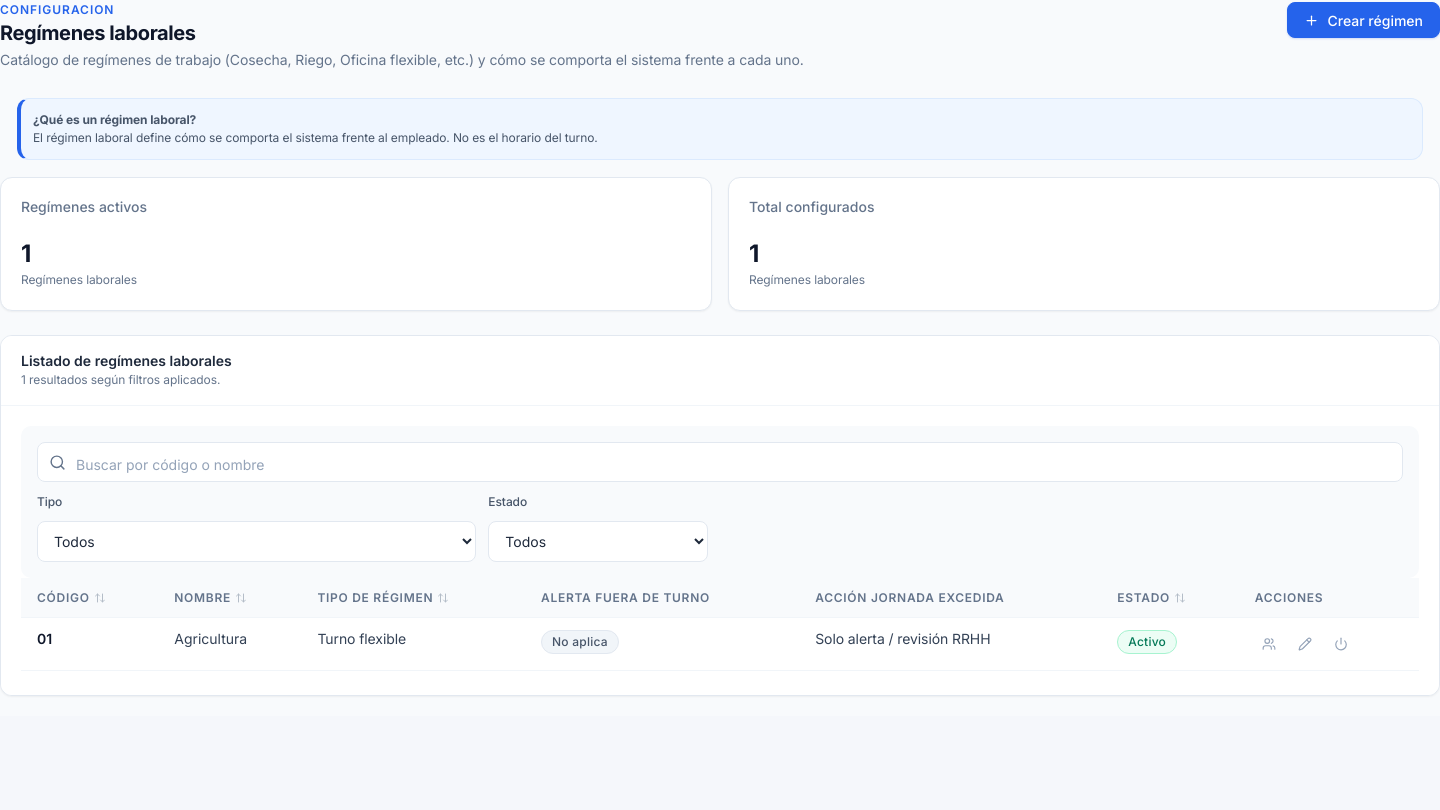
Test: WorkRegimesPage — modal Empleados asociados (Etapa 13J / 13J.1 / 13J.2) › cambiar el filtro a Históricos vuelve a pedir con status=historical y muestra el badge 'Histórica'
Expected: the text "Agricultura" is shown, x1=174 y1=630 x2=247 y2=647
Click the button named "Ver empleados asociados" at (1269, 644), box x1=1255 y1=630 x2=1283 y2=658
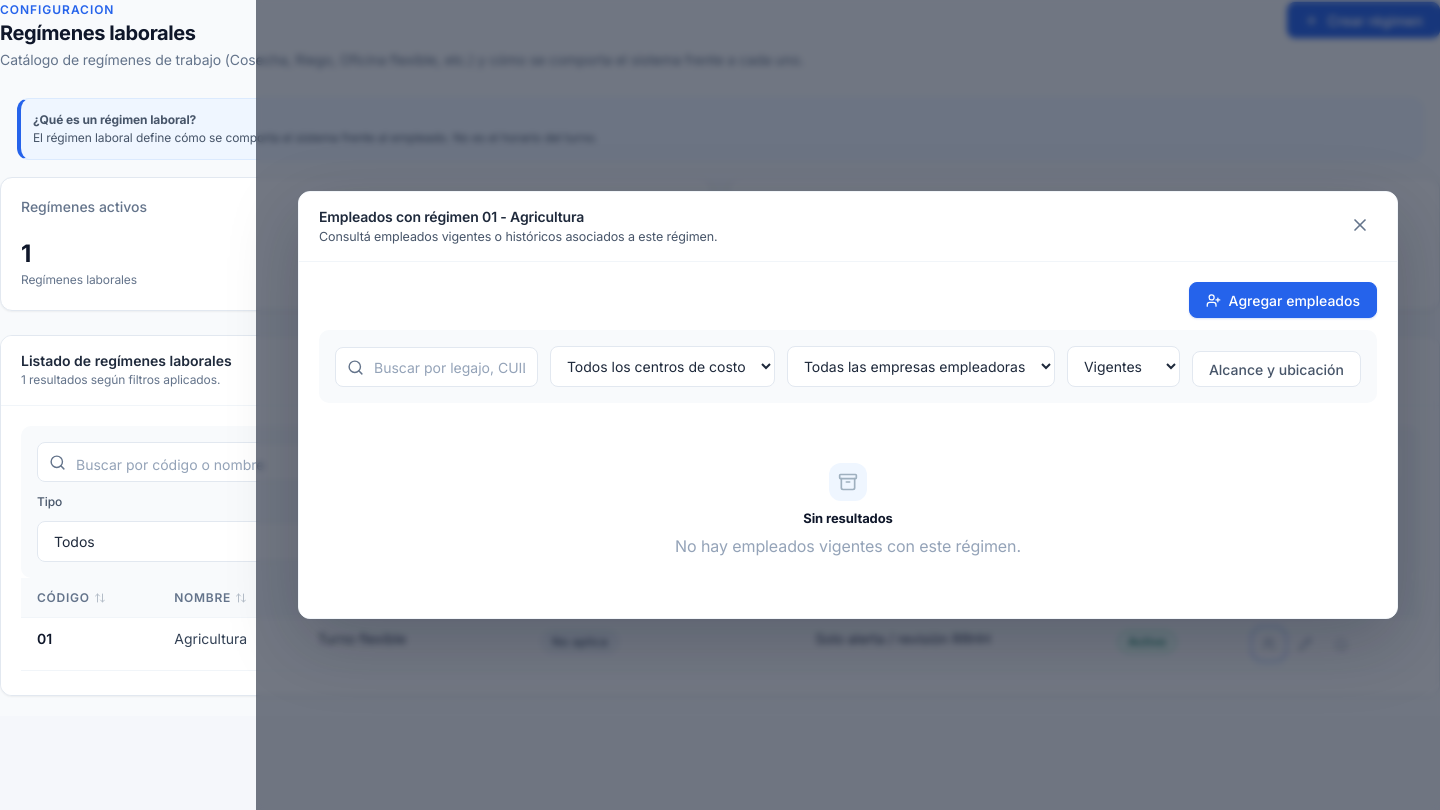
Expected: the heading "Empleados con régimen 01 - Agricultura" is shown, x1=319 y1=208 x2=584 y2=225
Select "Históricos" in the dropdown named "Filtrar por vigencia" at (1123, 367), box x1=1067 y1=346 x2=1180 y2=387
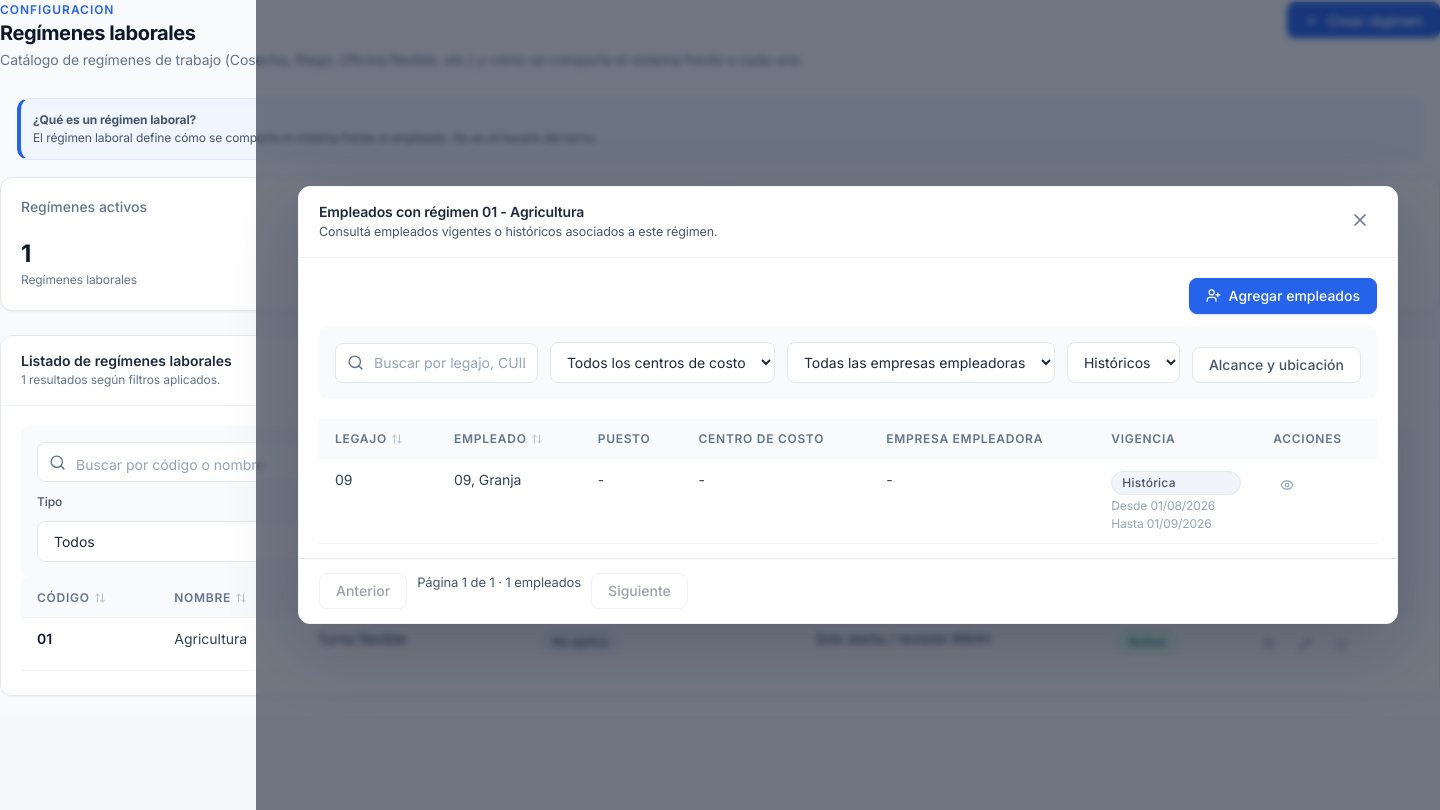
Expected: the text "Histórica" is shown, x1=1111 y1=471 x2=1241 y2=495
